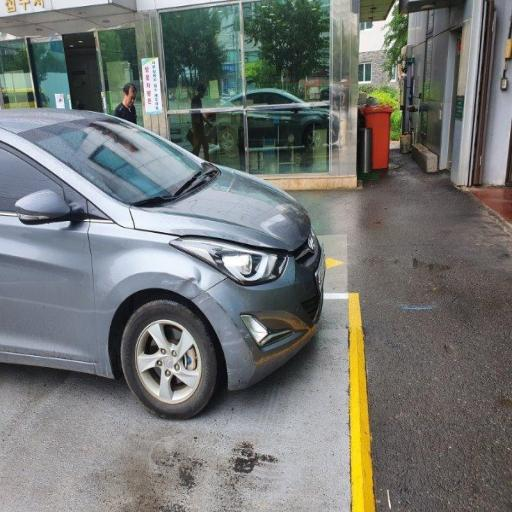dent: (106, 214, 252, 343)
